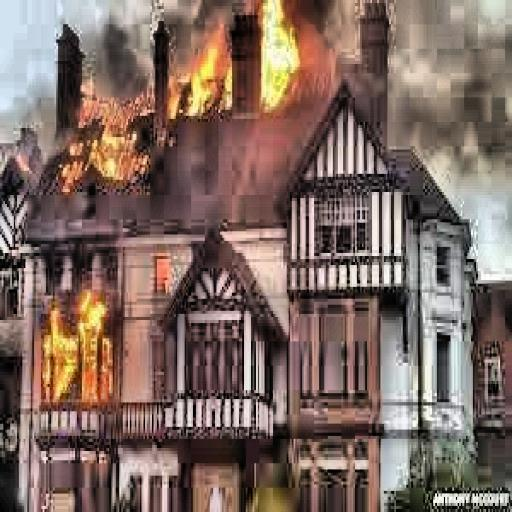fire: (46, 82, 164, 195), (31, 284, 121, 412), (254, 0, 342, 110), (164, 21, 258, 119)
